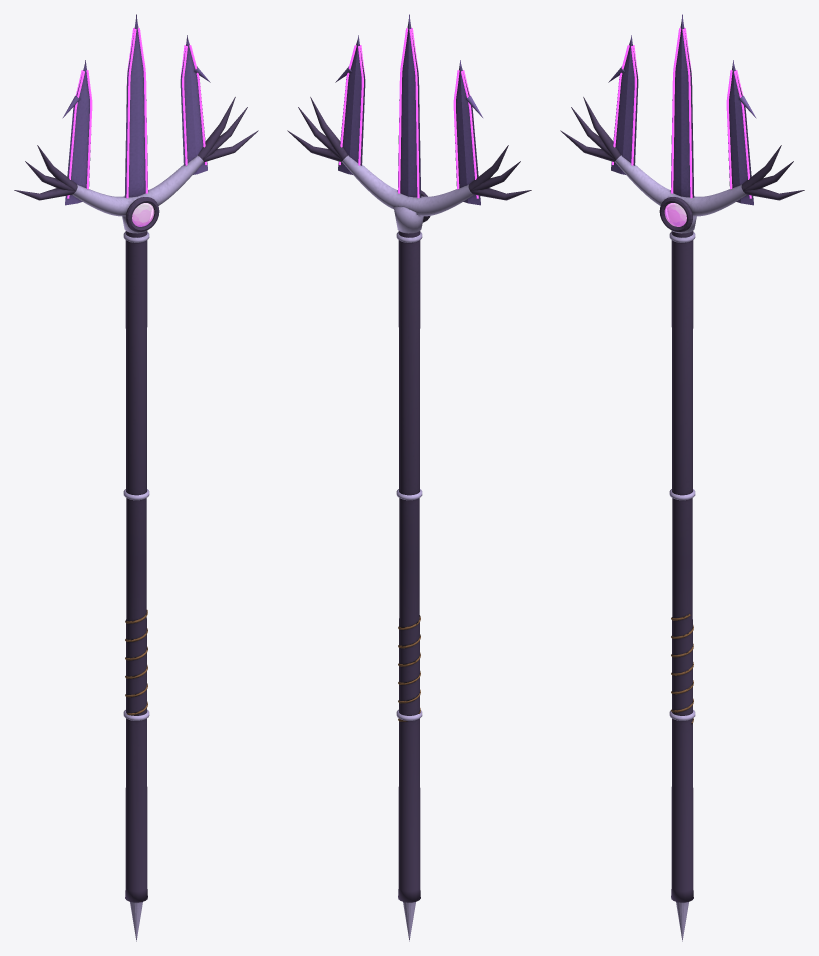
The model's file is arma_lend_garfo_vazio.glb.
The picture shows the model from 3 angles, left to right: view 1: azimuth 30°, elevation 25°; view 2: azimuth 150°, elevation 25°; view 3: azimuth 330°, elevation 25°; orthographic projection.
Parts seen in each view (by area): view 1: arma_lend_garfo_vazio; view 2: arma_lend_garfo_vazio; view 3: arma_lend_garfo_vazio.
Boxes of the visible parts, x1,y1,x2,y2 form: arma_lend_garfo_vazio: (14,14,258,941); arma_lend_garfo_vazio: (287,14,531,941); arma_lend_garfo_vazio: (560,14,804,941).
Bounding box in the file's own units: 0.6959 × 2.52 × 0.0809.
14 materials, 1 textured.
